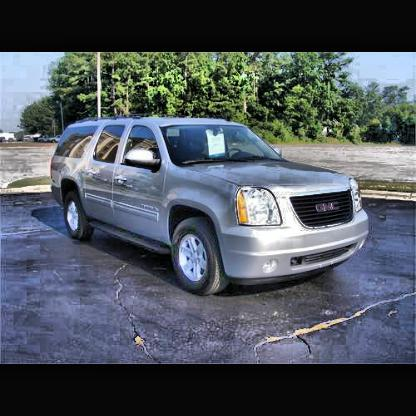GMC Yukon Hybrid SUV 2012: (46, 116, 374, 303)
